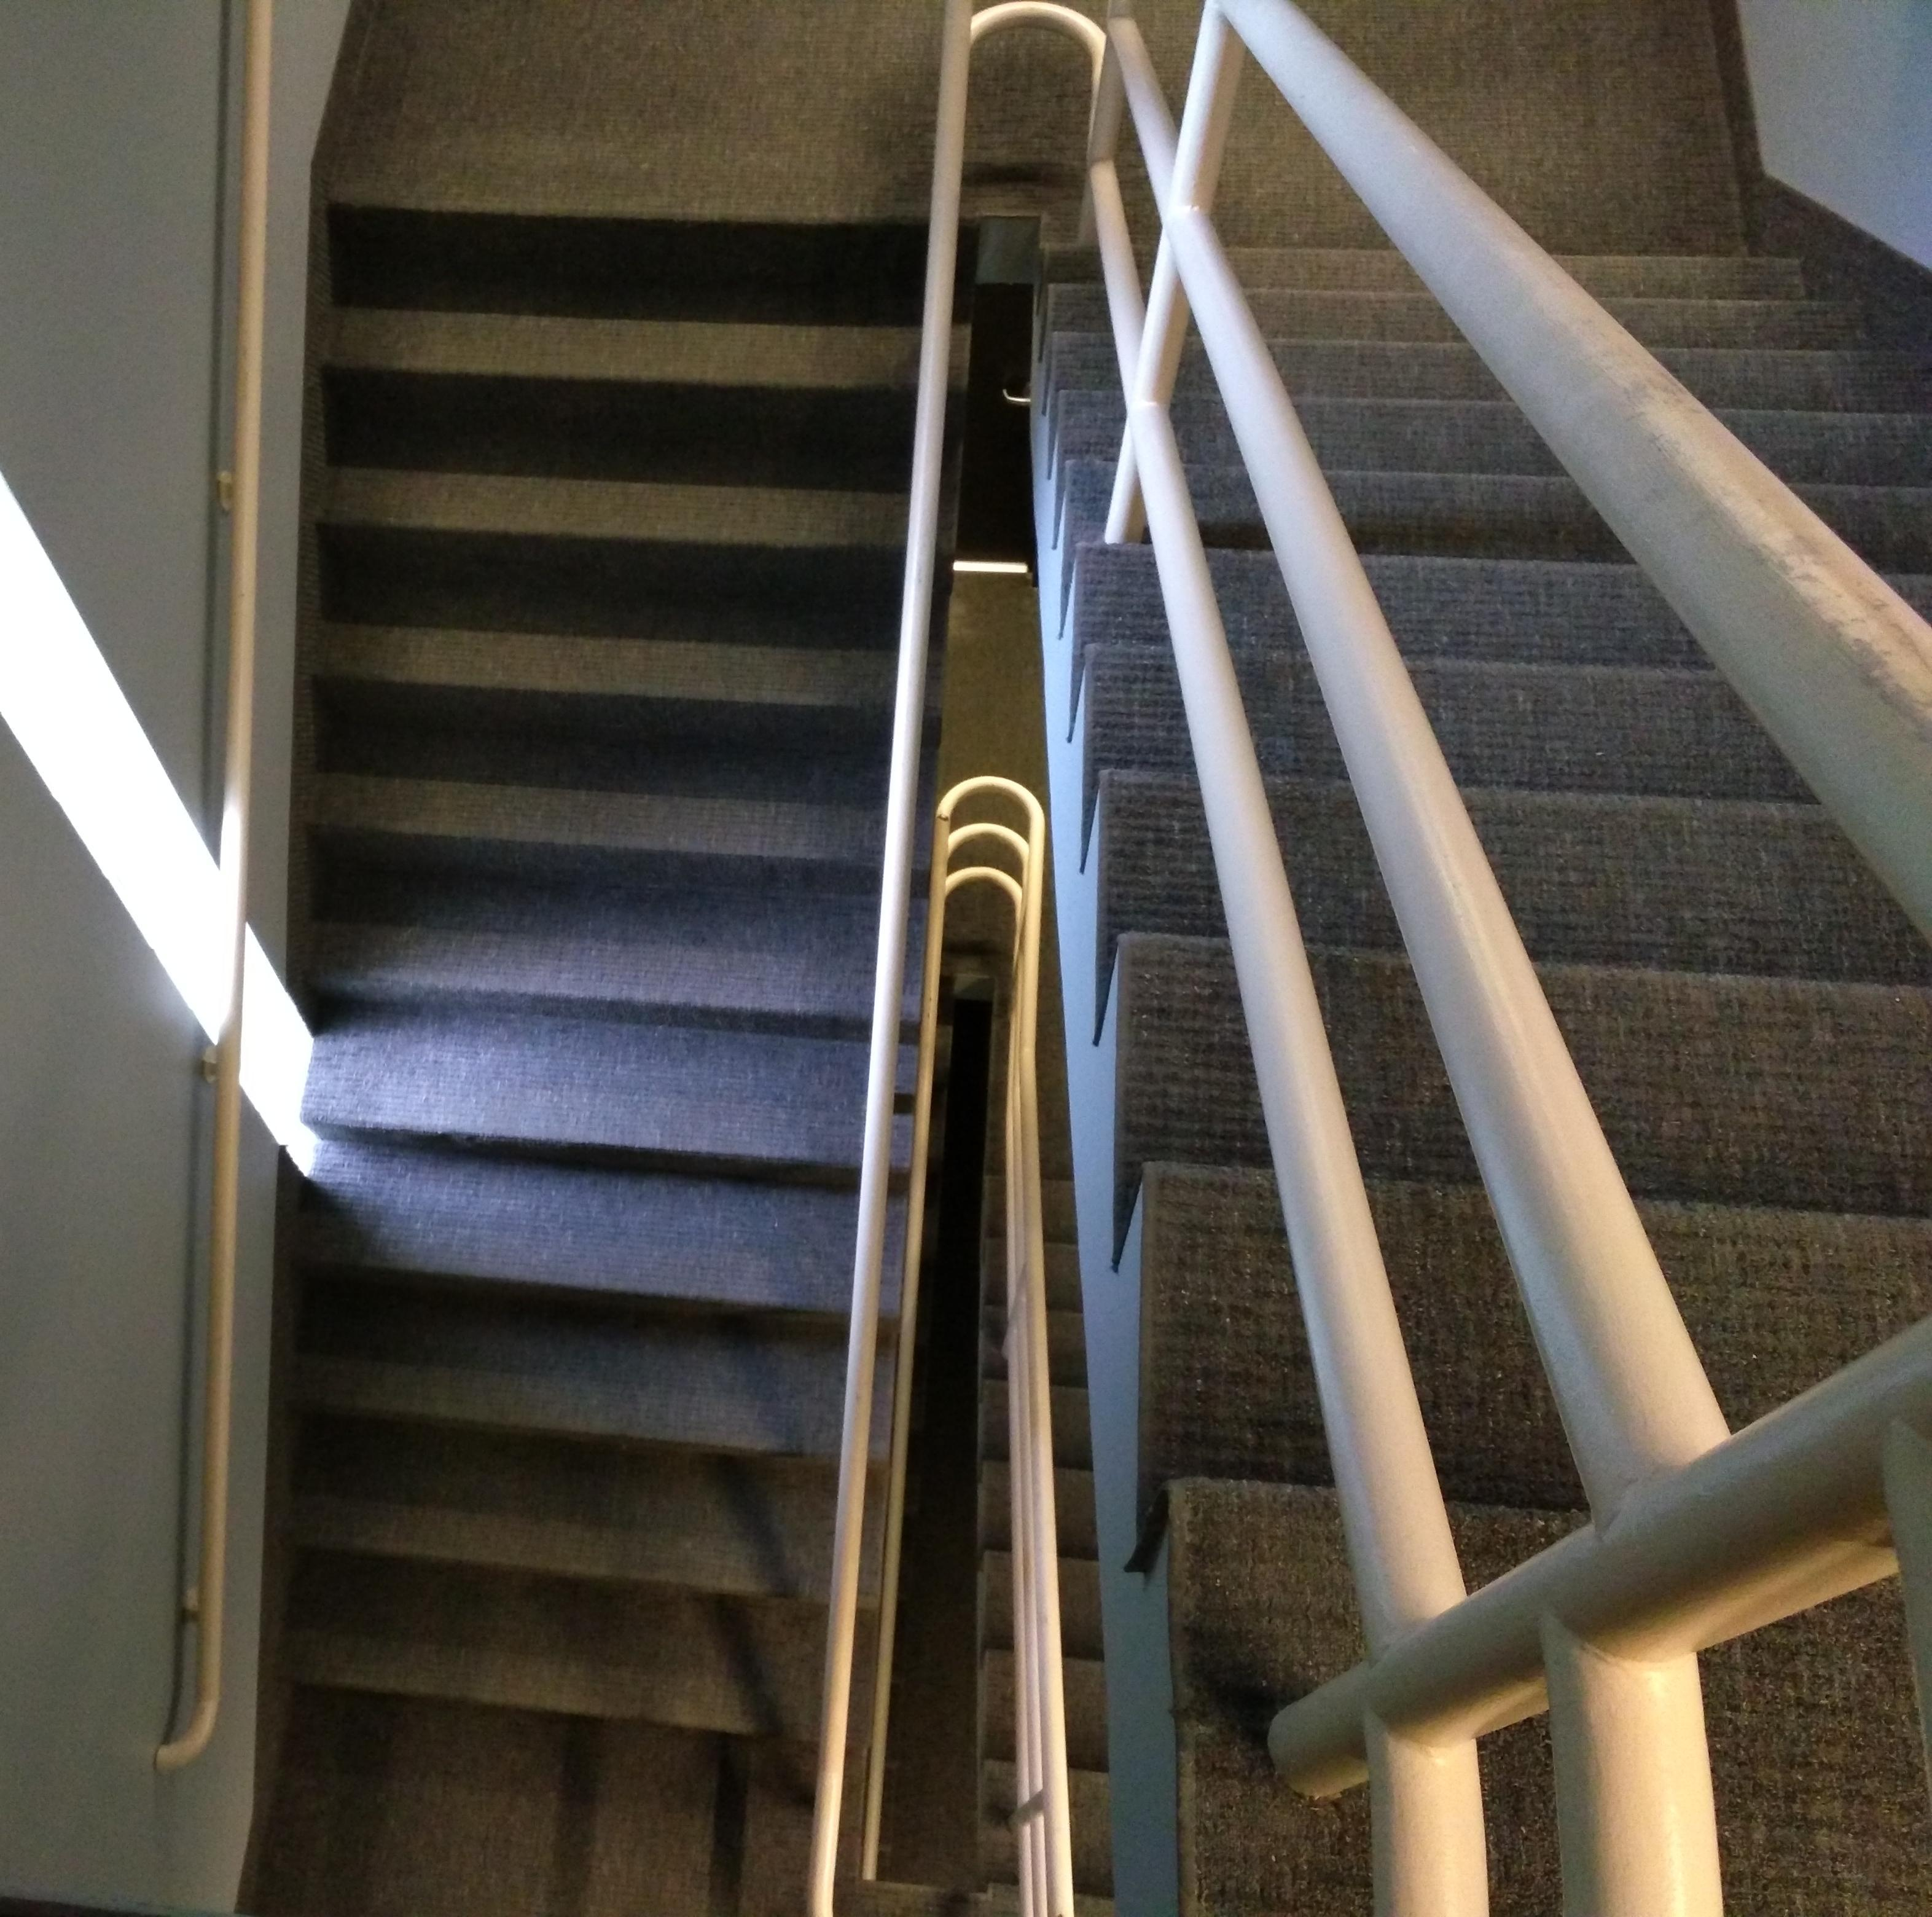stairs_down: (1037, 221, 1932, 1691)
stairs_up: (293, 205, 951, 1733)
